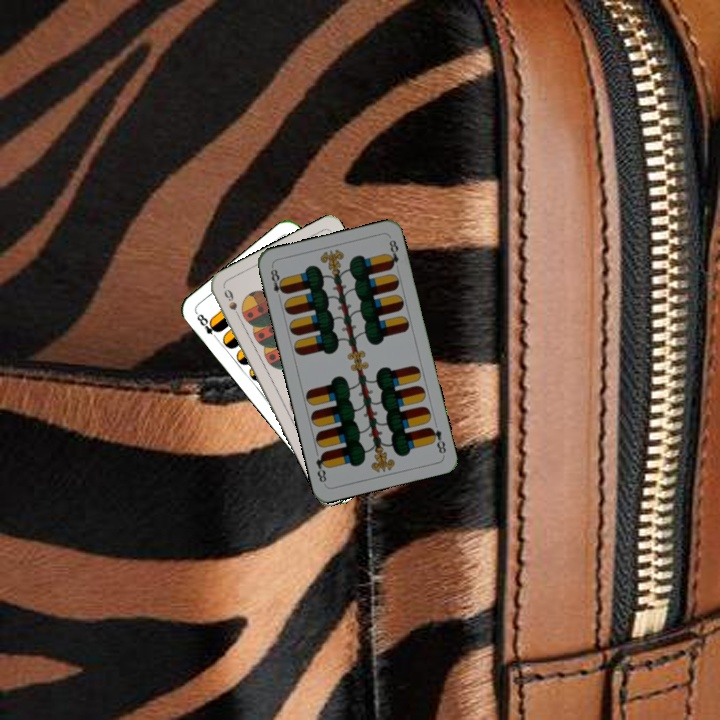E8: (192, 309, 223, 343), (266, 263, 288, 303), (425, 423, 449, 456)
S9: (220, 285, 244, 323)
